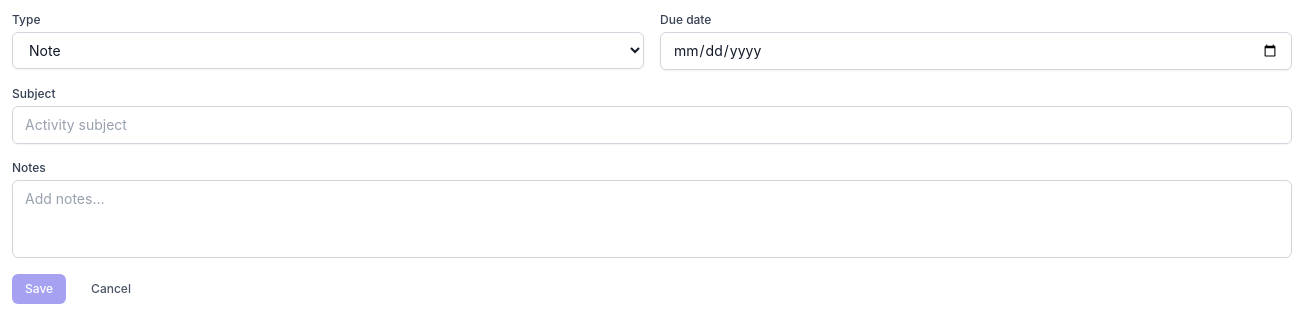
Scenario: ActivityForm › auto-sets type to "Task" when a due date is entered
Type "2026-06-30" into the date field with test id "activity-due-date". click: {"x": 976, "y": 51}
box: [660,32,1292,70]
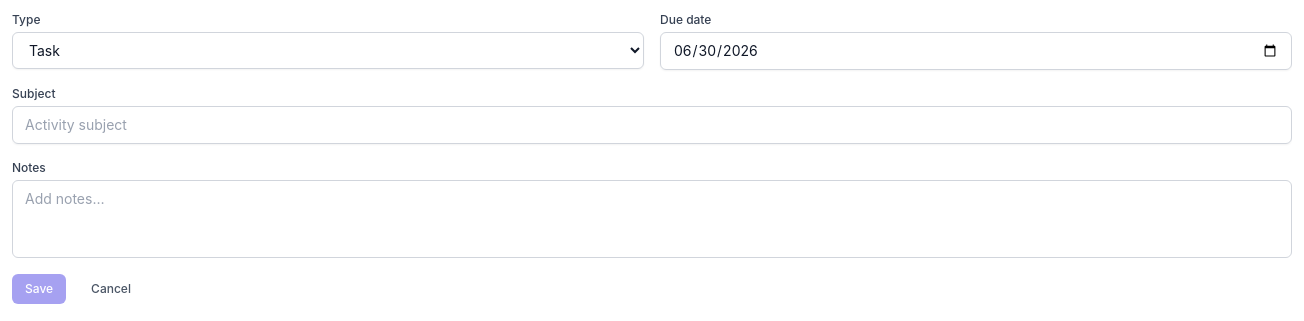
Now the dropdown with test id "activity-type-select" shows "Task", box [12,32,644,69]
